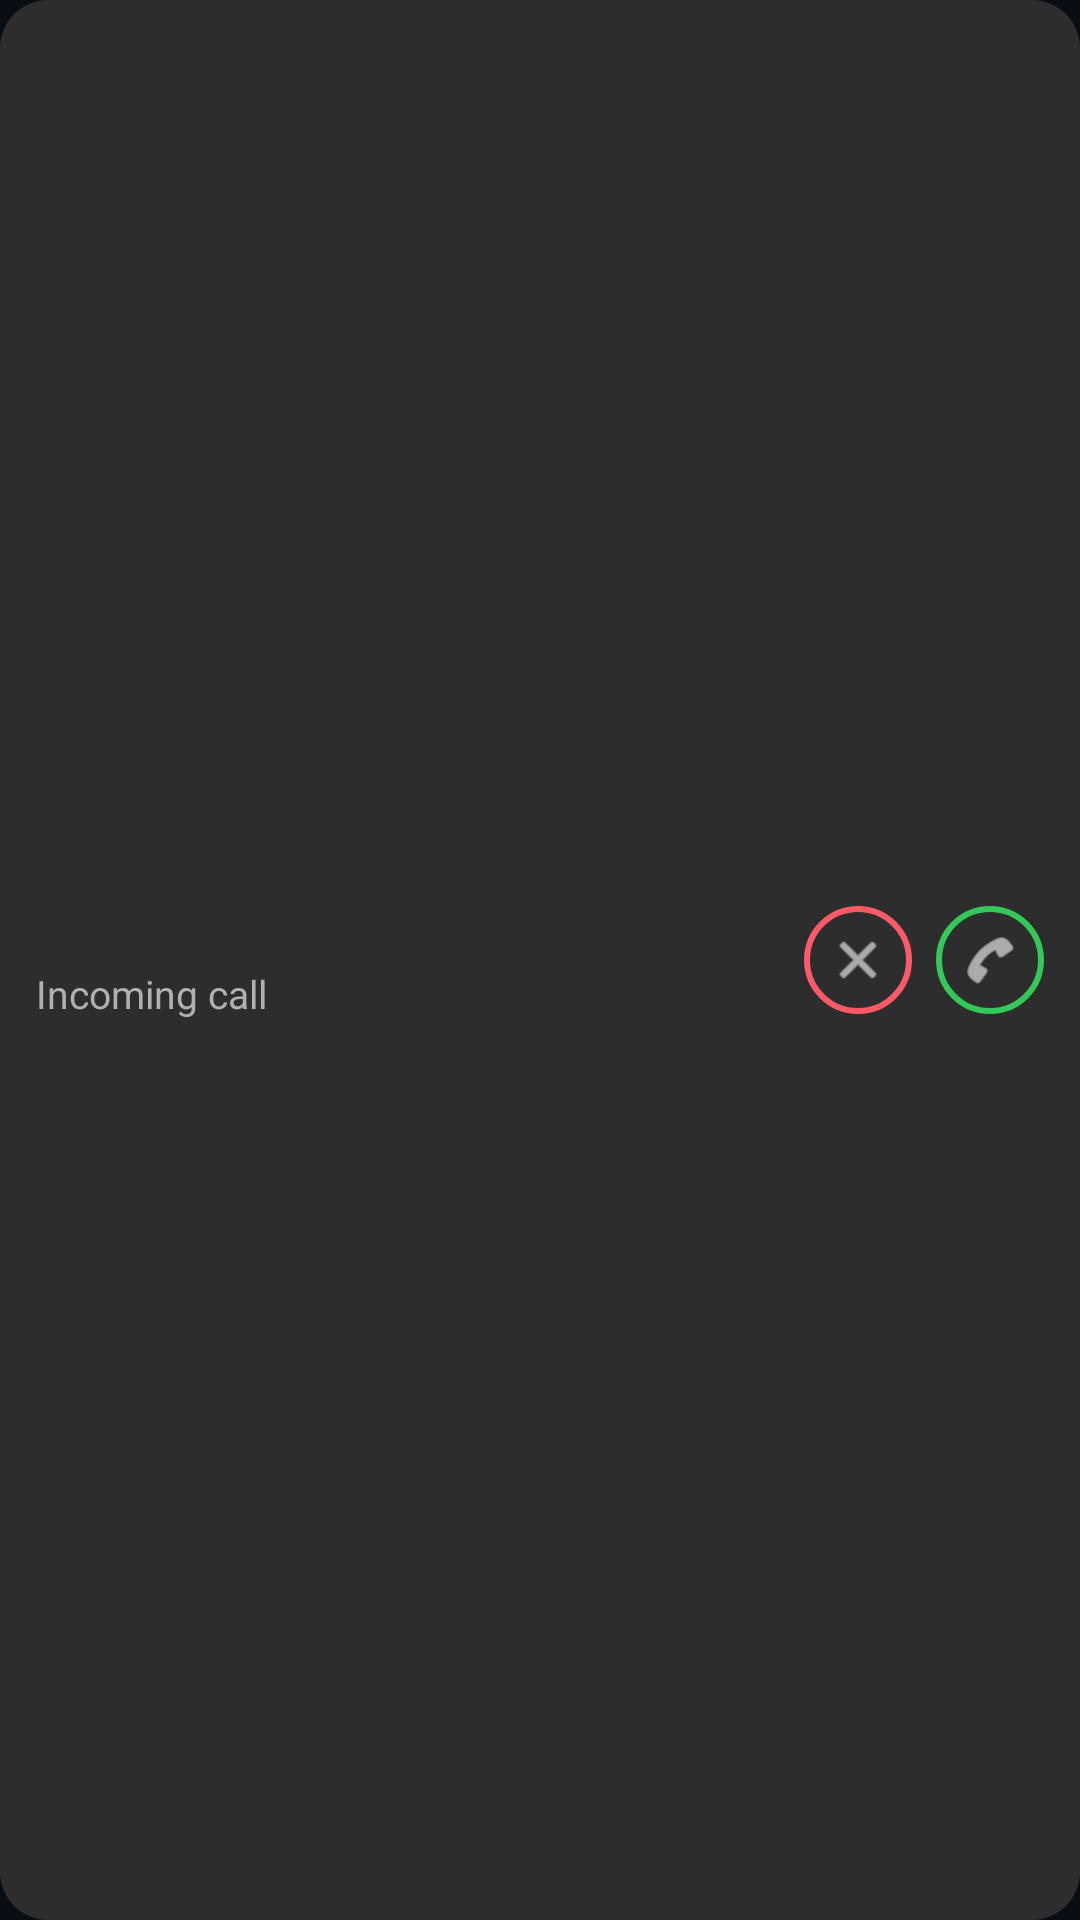

Icon bounding boxes for this 1080*1920 phone screenshot, format (x1, y1, x2, y2):
Accept: (936, 906, 1044, 1014)
Decline: (804, 906, 912, 1014)
